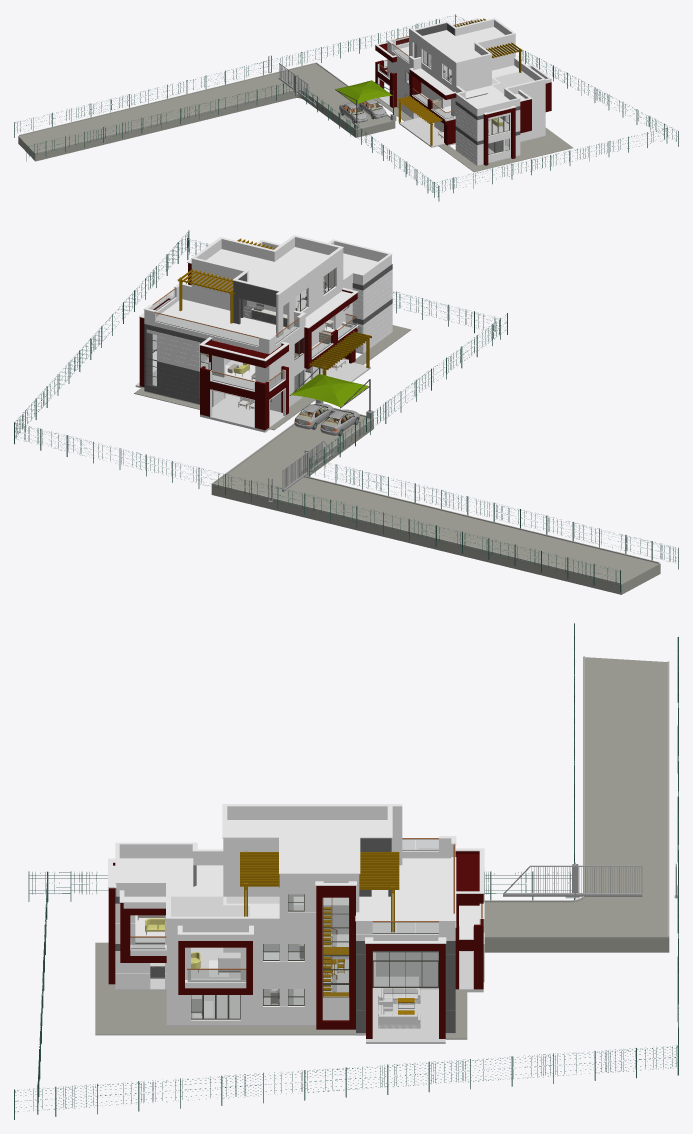
Rendered from house-grouped-v2.glb.
3 views of the same model, one above another, from view 1: azimuth 30°, elevation 25°; view 2: azimuth 150°, elevation 25°; view 3: azimuth 270°, elevation 25° (orthographic). The views are drawn at different scales.
Visible parts, largest first — view 1: details, IfcSlab/SLA - 005, fence, IfcBeam/BMR - 001, IfcWall/SW - 020, IfcWindow/W-01; view 2: details, IfcSlab/SLA - 005, fence, IfcBeam/BMR - 001, IfcWindow/W-01, IfcWall/SW - 020; view 3: details, IfcSlab/SLA - 005, IfcBeam/BMR - 001, IfcWindow/W-01, fence, IfcWall/SW - 020.
Boxes of the visible parts, <box> form: details: <box>268,18,551,165</box>; IfcSlab/SLA - 005: <box>18,64,572,172</box>; fence: <box>14,14,678,201</box>; IfcBeam/BMR - 001: <box>375,38,551,165</box>; IfcWall/SW - 020: <box>19,62,396,153</box>; IfcWindow/W-01: <box>359,22,509,154</box>; details: <box>139,235,392,502</box>; IfcSlab/SLA - 005: <box>134,325,660,594</box>; fence: <box>14,230,678,591</box>; IfcBeam/BMR - 001: <box>139,263,357,430</box>; IfcWindow/W-01: <box>147,268,360,418</box>; IfcWall/SW - 020: <box>211,399,659,583</box>; details: <box>108,804,677,1033</box>; IfcSlab/SLA - 005: <box>95,657,669,1043</box>; IfcBeam/BMR - 001: <box>108,851,483,1038</box>; IfcWindow/W-01: <box>131,839,438,1019</box>; fence: <box>14,623,678,1119</box>; IfcWall/SW - 020: <box>484,656,669,938</box>.
Bounding box in the file's own units: 66.54 × 11.2 × 40.07.
